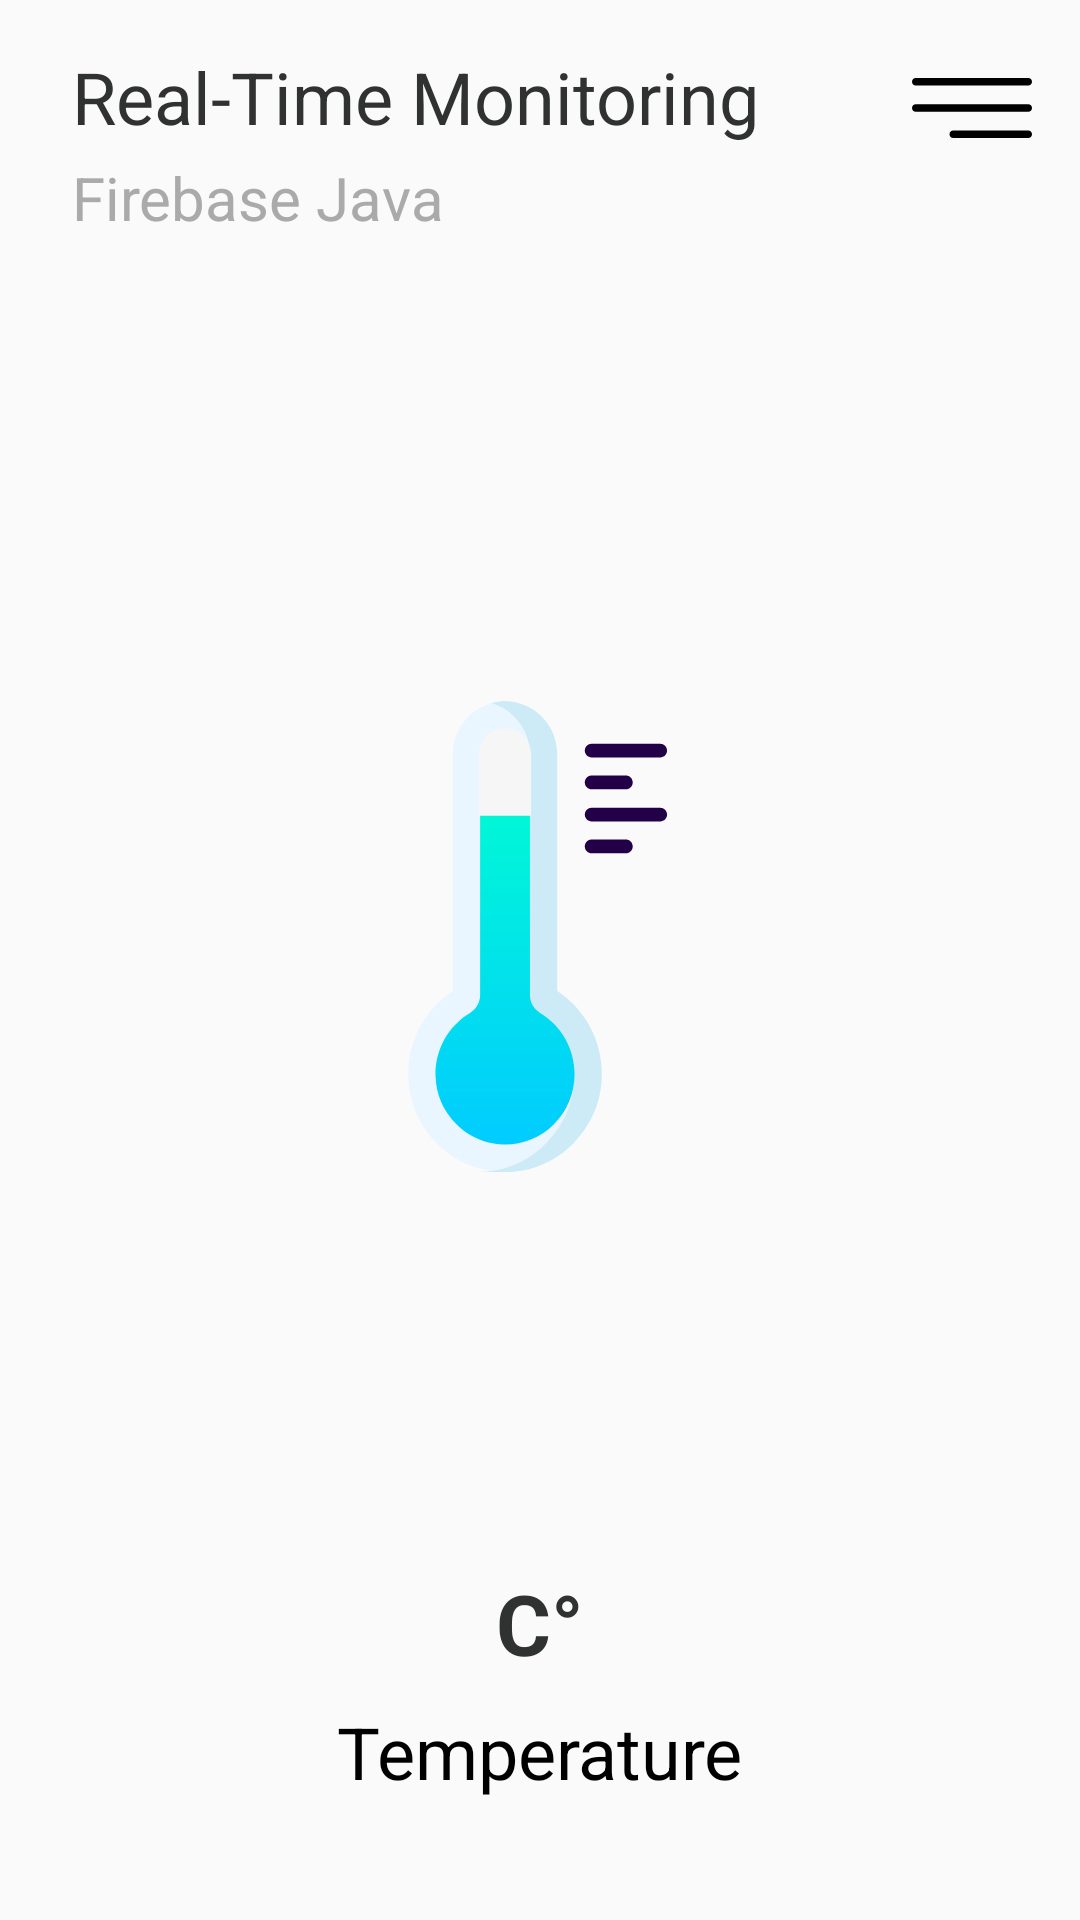

Icons on this 1080px×1920px Android screen, each with the point to tap as point (x, y):
menu: point (972, 108)
